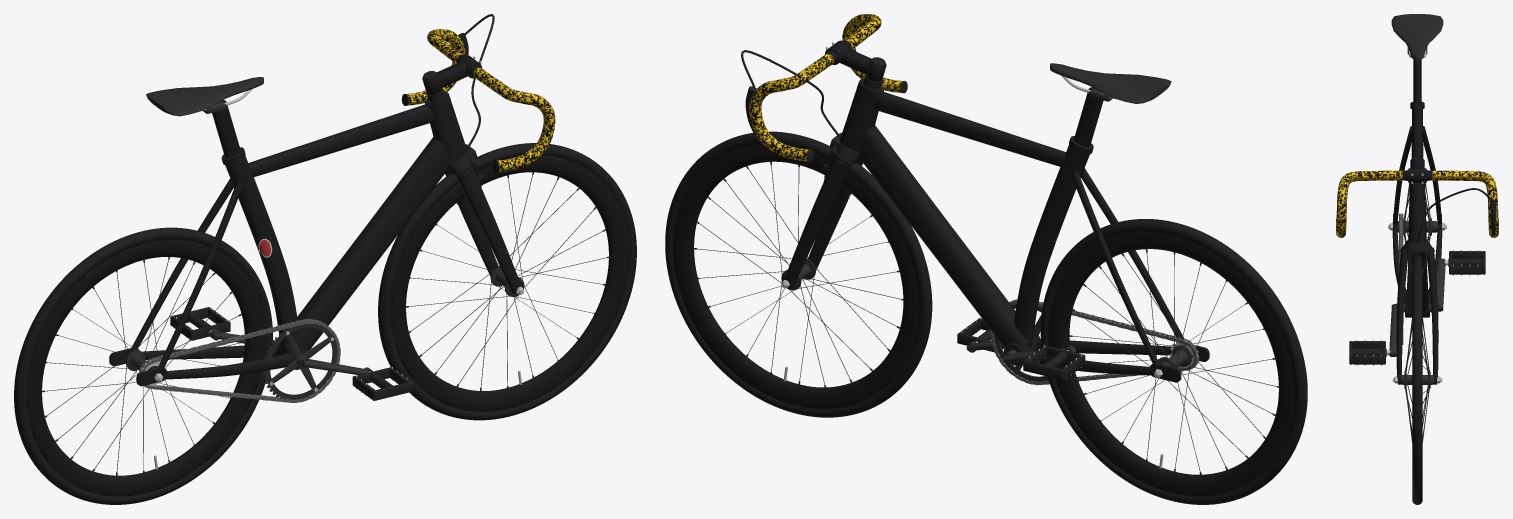
File: bike.glb
The picture shows the model from 3 angles, left to right: view 1: azimuth 30°, elevation 25°; view 2: azimuth 150°, elevation 25°; view 3: azimuth 270°, elevation 25°; orthographic projection. The views are drawn at different scales.
Parts seen in each view (by area): view 1: frame_geo, wheel_rear_geo, wheel_front_geo, bars_geo, crank_geo, pedal_right_geo, pedal_left_geo; view 2: frame_geo, wheel_rear_geo, wheel_front_geo, bars_geo, pedal_left_geo, crank_geo; view 3: frame_geo, wheel_front_geo, bars_geo, pedal_left_geo, pedal_right_geo, crank_geo, wheel_rear_geo.
Boxes of the visible parts, x1,y1,x2,y2 form: frame_geo: (109,14,524,402); wheel_rear_geo: (14,227,272,504); wheel_front_geo: (378,143,636,420); bars_geo: (401,29,555,172); crank_geo: (210,324,372,399); pedal_right_geo: (352,367,412,400); pedal_left_geo: (170,307,230,340); frame_geo: (741,50,1209,385); wheel_rear_geo: (1040,219,1307,504); wheel_front_geo: (665,131,932,417); bars_geo: (745,14,907,161); pedal_left_geo: (1023,345,1085,380); crank_geo: (966,304,1076,381); frame_geo: (1388,14,1491,384); wheel_front_geo: (1401,255,1433,504); bars_geo: (1336,157,1498,237); pedal_left_geo: (1444,250,1485,275); pedal_right_geo: (1349,340,1390,365); crank_geo: (1389,258,1445,356); wheel_rear_geo: (1396,183,1438,262).
Bounding box in the file's own units: 1.64 × 1 × 0.4416.
Materials: 15 (1 with a texture image).
